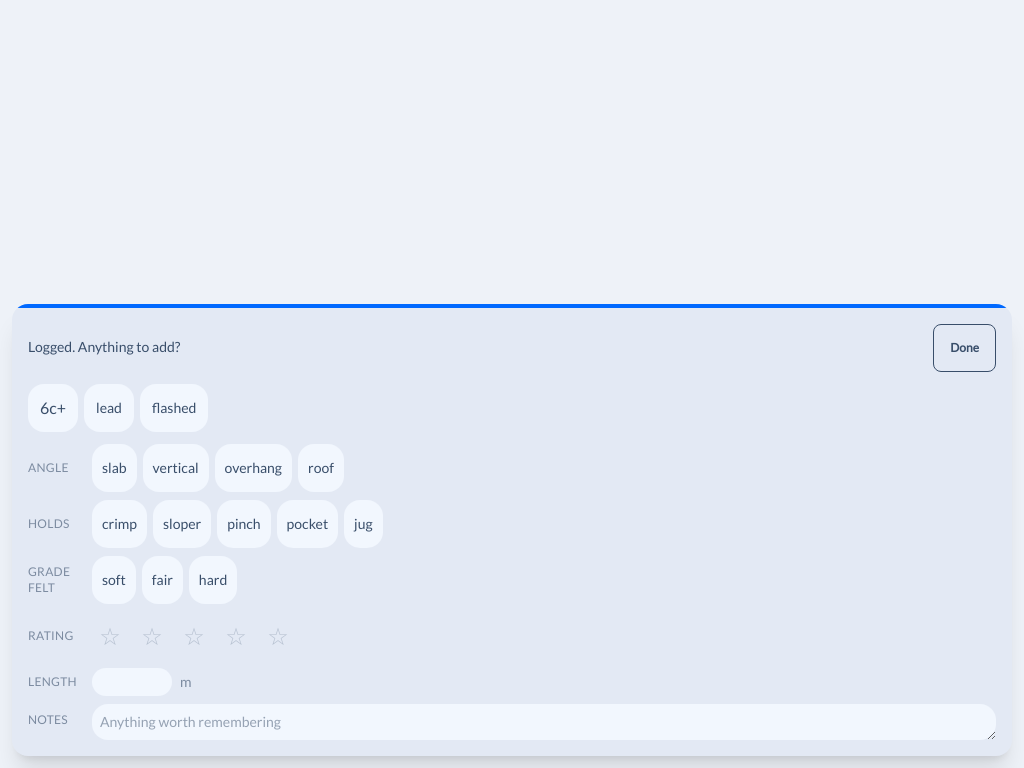
GoSheet › removes the countdown once touched, rather than freezing it
This screenshot has width=1024, height=768.
Check: the element with test id "sheet-countdown" is shown, box [12,304,1012,308]
Click the button "overhang" at {"x": 253, "y": 468}, box [215,444,292,492]
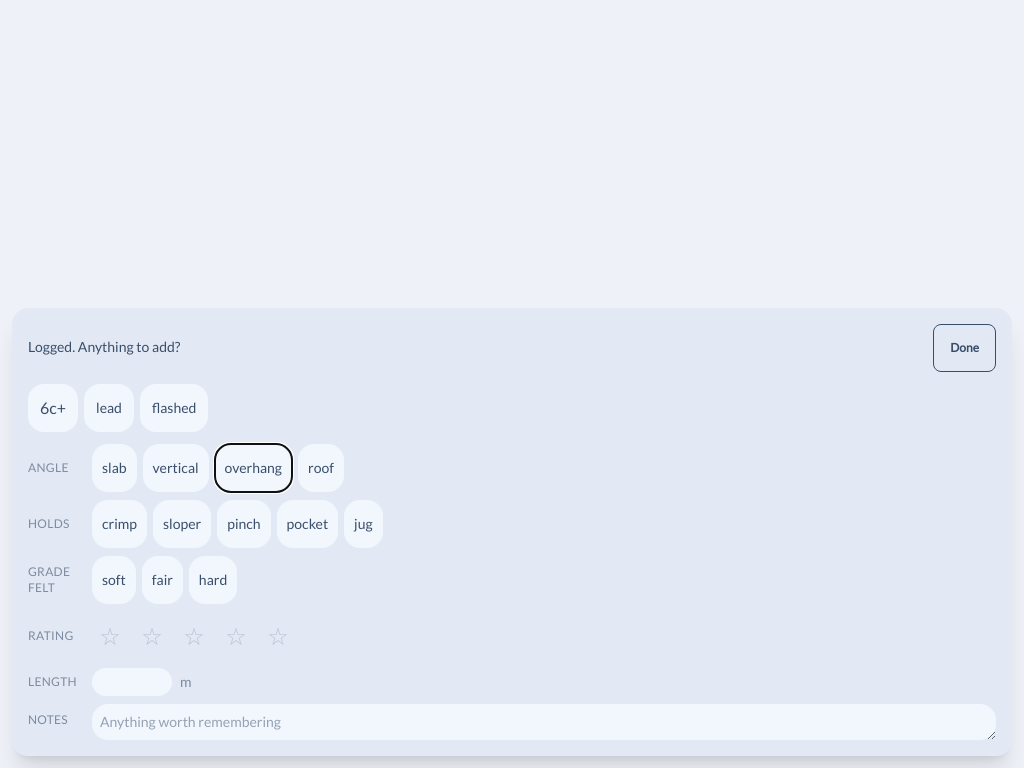
Check: the element with test id "sheet-countdown" is gone
